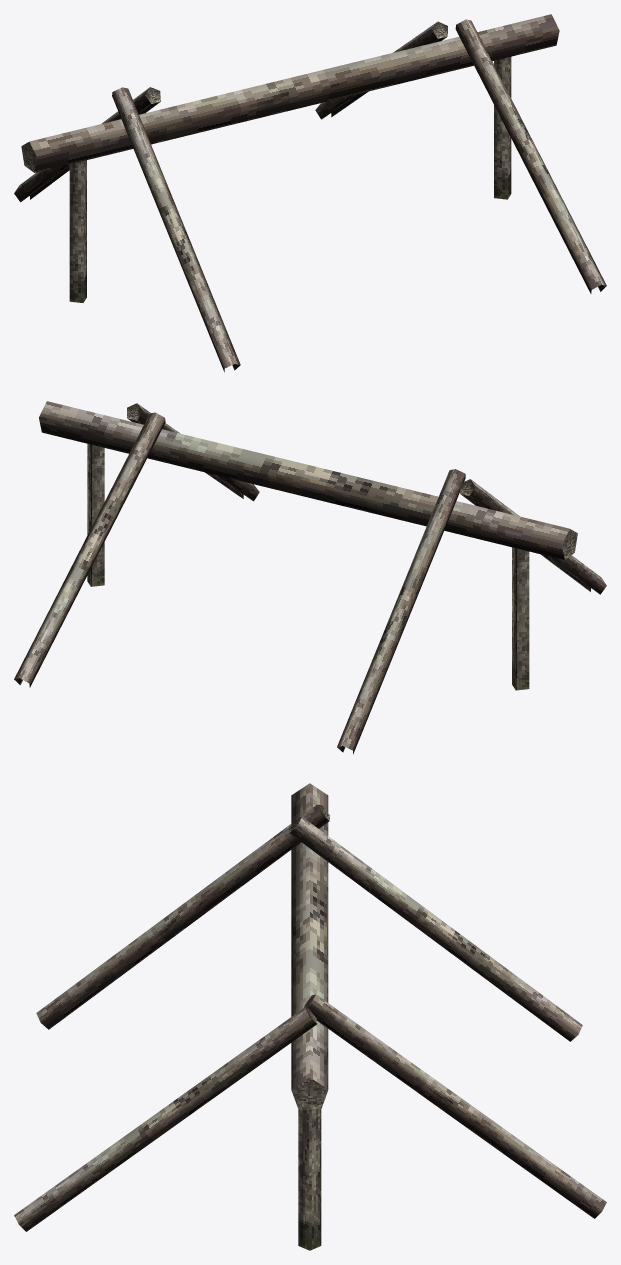
File: Environment - Prop - Wood Beams 02 - PMWdSwHrs.glb
3 views of the same model, one above another, from view 1: azimuth 30°, elevation 25°; view 2: azimuth 150°, elevation 25°; view 3: azimuth 270°, elevation 25° (orthographic). The views are drawn at different scales.
Visible parts, largest first — view 1: PMWDSWHRS; view 2: PMWDSWHRS; view 3: PMWDSWHRS.
Boxes of the visible parts, <box> form: PMWDSWHRS: <box>14,14,606,372</box>; PMWDSWHRS: <box>14,401,606,754</box>; PMWDSWHRS: <box>14,783,606,1250</box>.
Size of the model in its own units: 20.32 by 7.38 by 17.31.
1 material, 1 textured.
